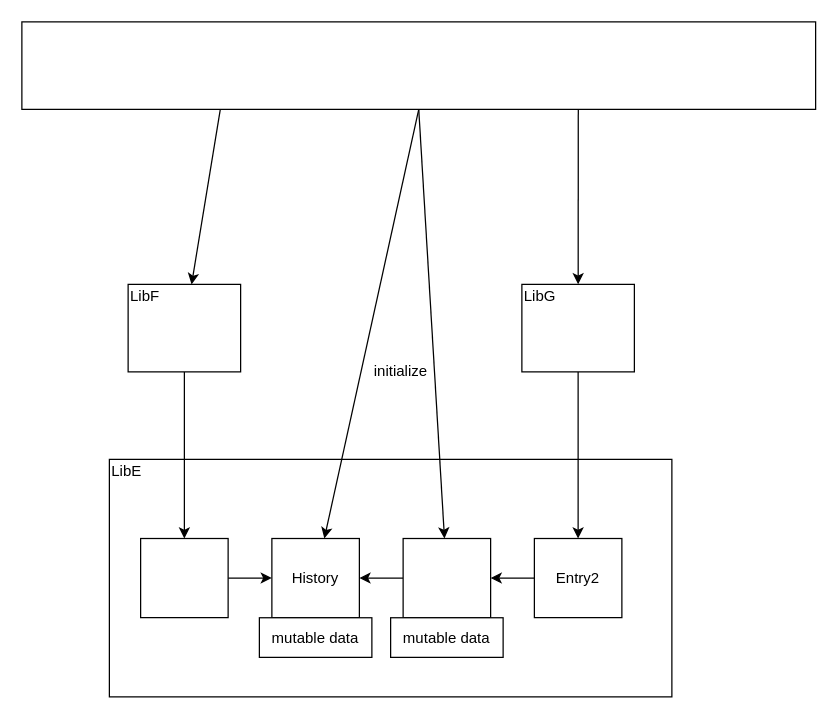
This 838x719 diagram has some shape labels left out. The centre of each missing label's shape, as x and y in pixels:
"Application" belongs at point (418, 65).
"Entry1" belongs at point (183, 577).
"Modification" belongs at point (446, 577).
